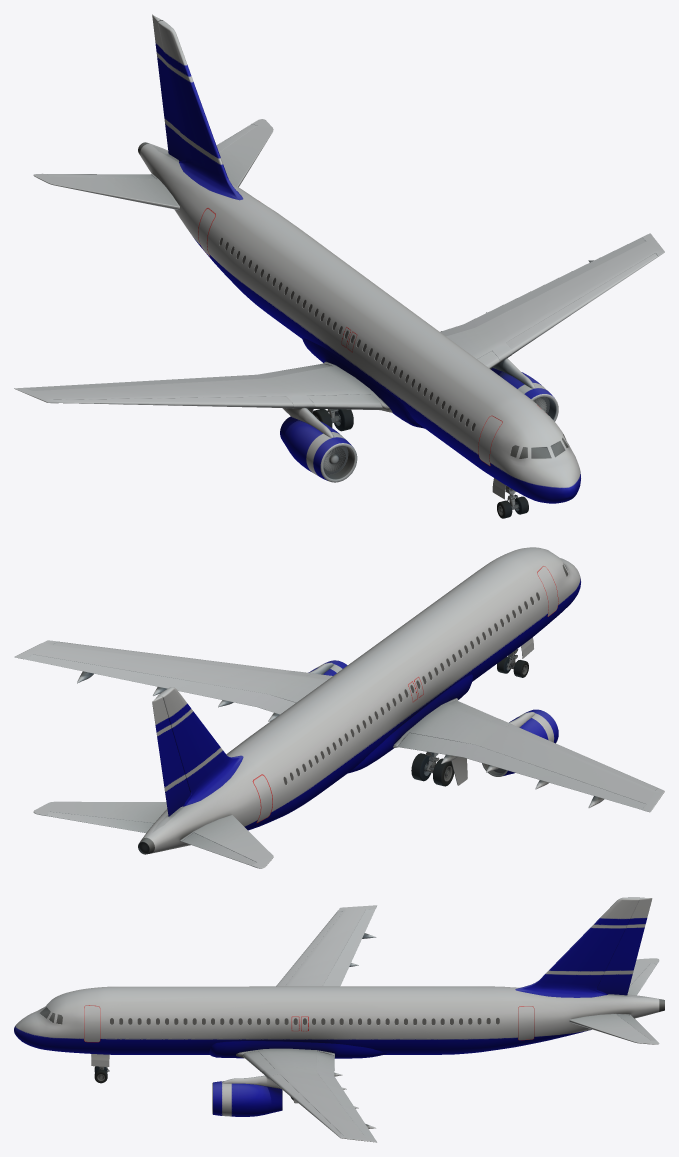
The model's file is airplane.glb.
The picture shows the model from 3 angles, top to bottom: view 1: azimuth 30°, elevation 25°; view 2: azimuth 150°, elevation 25°; view 3: azimuth 270°, elevation 25°; orthographic projection. The views are drawn at different scales.
Visible parts, largest first — view 1: airplane.1_1; view 2: airplane.1_1; view 3: airplane.1_1.
Boxes of the visible parts, x1,y1,x2,y2 form: airplane.1_1: [14, 14, 664, 518]; airplane.1_1: [14, 547, 664, 868]; airplane.1_1: [14, 897, 664, 1142].
Bounding box in the file's own units: 1.82 × 0.6472 × 2.11.
Materials: 1 (1 with a texture image).
